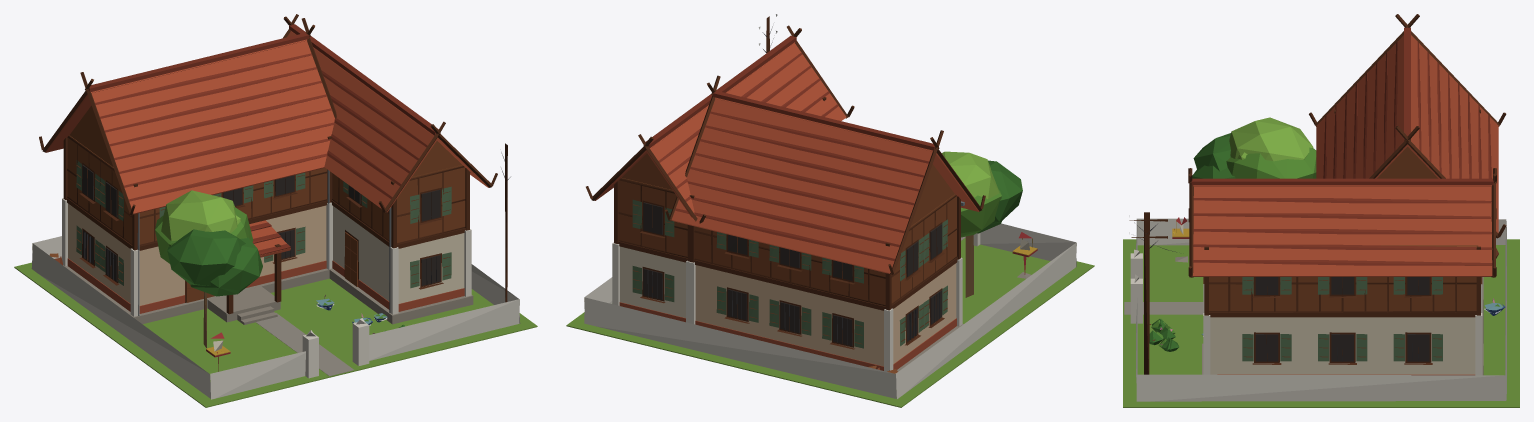
File: home_4.glb
3 views of the same model, side by side, from view 1: azimuth 30°, elevation 25°; view 2: azimuth 150°, elevation 25°; view 3: azimuth 270°, elevation 25° (orthographic). The views are drawn at different scales.
Parts seen in each view (by area): view 1: body, windows; view 2: body, windows; view 3: body, windows.
Boxes of the visible parts, left/top/right/bottom form: body: left=14, top=14, right=537, bottom=407; windows: left=82, top=165, right=440, bottom=285; body: left=566, top=14, right=1094, bottom=407; windows: left=643, top=202, right=942, bottom=346; body: left=1123, top=14, right=1519, bottom=407; windows: left=1255, top=277, right=1429, bottom=361.
Bounding box in the file's own units: 15.9 × 10.54 × 15.9.
